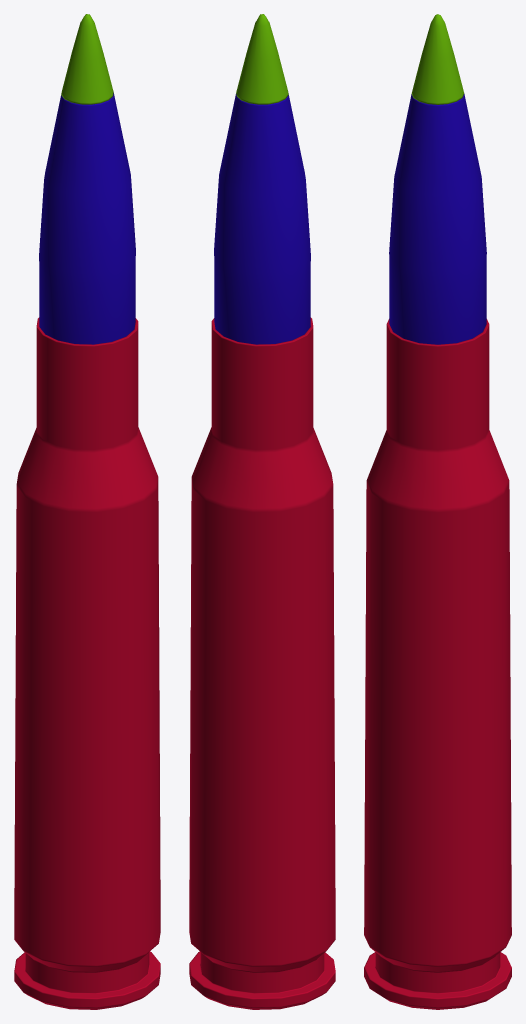
Rendered from ammoBullets.fbx.
3 renders of one model, left to right at view 1: azimuth 30°, elevation 25°; view 2: azimuth 150°, elevation 25°; view 3: azimuth 270°, elevation 25°, orthographic.
Visible parts, largest first — view 1: ammoSniper; view 2: ammoSniper; view 3: ammoSniper.
Part boxes in pixels (x1=…): ammoSniper: x1=14, y1=14, x2=160, y2=1009; ammoSniper: x1=189, y1=14, x2=335, y2=1009; ammoSniper: x1=364, y1=14, x2=511, y2=1009.
Bounding box in the file's own units: 0.1342 × 0.9708 × 0.1342.
